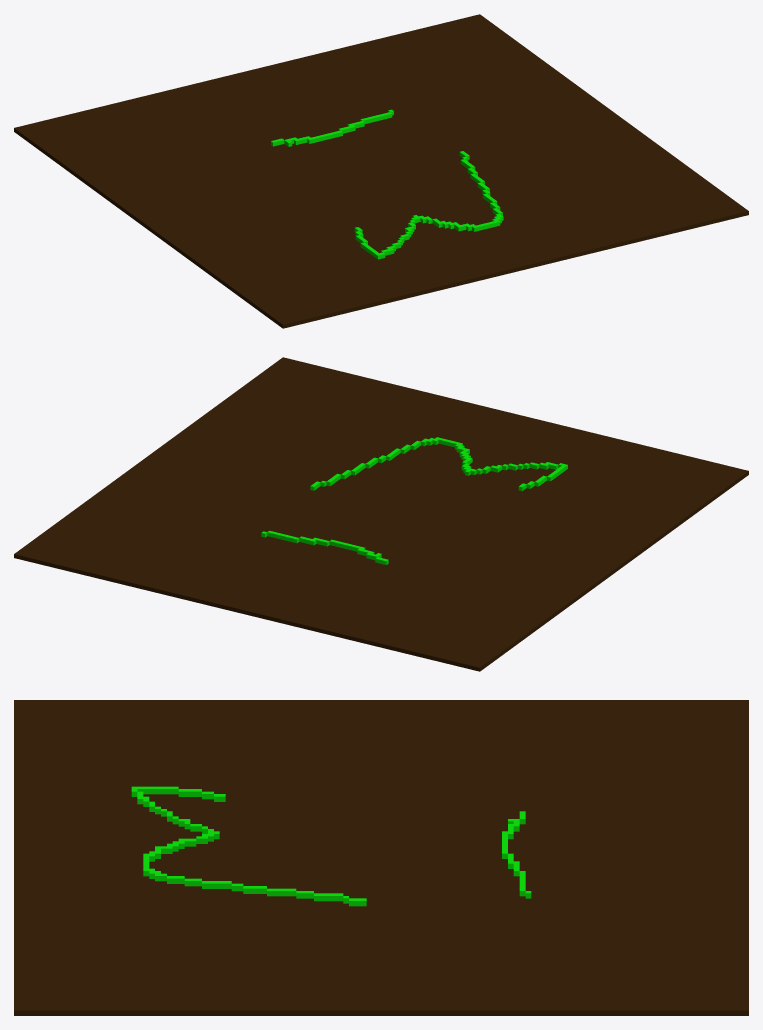
The model's file is newPrototypeLevel-12.obj.
The picture shows the model from 3 angles, top to bottom: view 1: azimuth 30°, elevation 25°; view 2: azimuth 150°, elevation 25°; view 3: azimuth 270°, elevation 25°; orthographic projection. The views are drawn at different scales.
Visible parts, largest first — view 1: newPrototypeLevel-12; view 2: newPrototypeLevel-12; view 3: newPrototypeLevel-12.
Part boxes in pixels (x1,y1,x2,y2): newPrototypeLevel-12: [14, 14, 748, 328]; newPrototypeLevel-12: [14, 357, 748, 671]; newPrototypeLevel-12: [14, 700, 748, 1015].
Size of the model in its own units: 125 by 2 by 125.
1 material, 1 textured.
